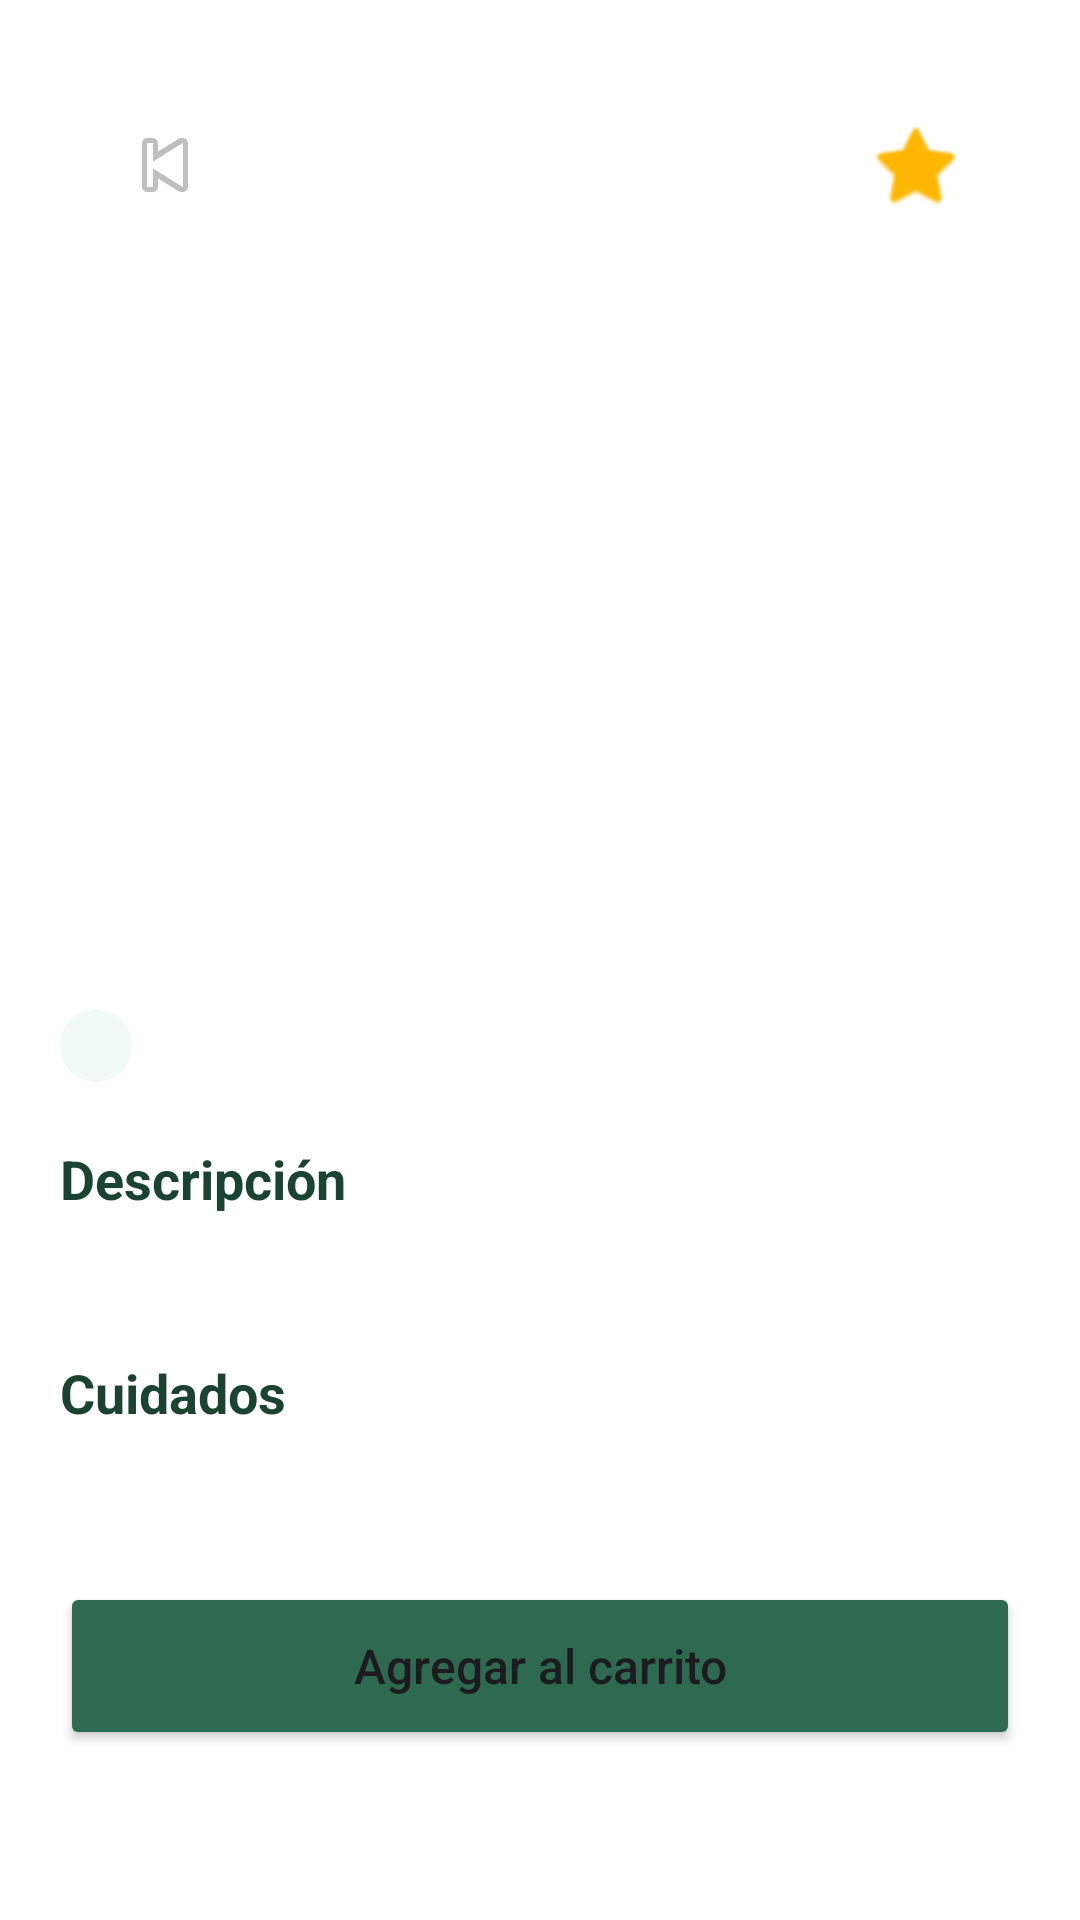

Named icons in this screenshot (1080px×1920px) and their bounding boxes, box(x1, y1, x2, y2):
Favorito: box(876, 127, 956, 205)
Volver: box(142, 138, 188, 192)
